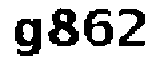2: (118, 6, 148, 48)
6: (83, 7, 114, 49)
8: (48, 5, 79, 51)
g: (8, 17, 41, 59)
